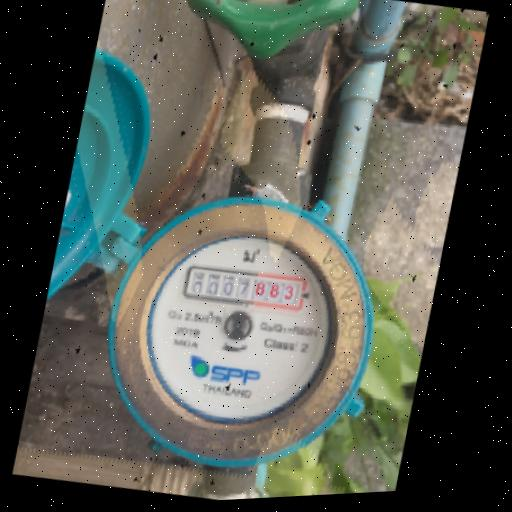0: (219, 275, 234, 298), (190, 272, 204, 294), (206, 274, 220, 296)
3: (281, 283, 296, 305)
7: (236, 278, 249, 299)
8: (251, 279, 266, 302), (266, 282, 281, 303)
border_water_meter_number: (180, 257, 308, 319)
